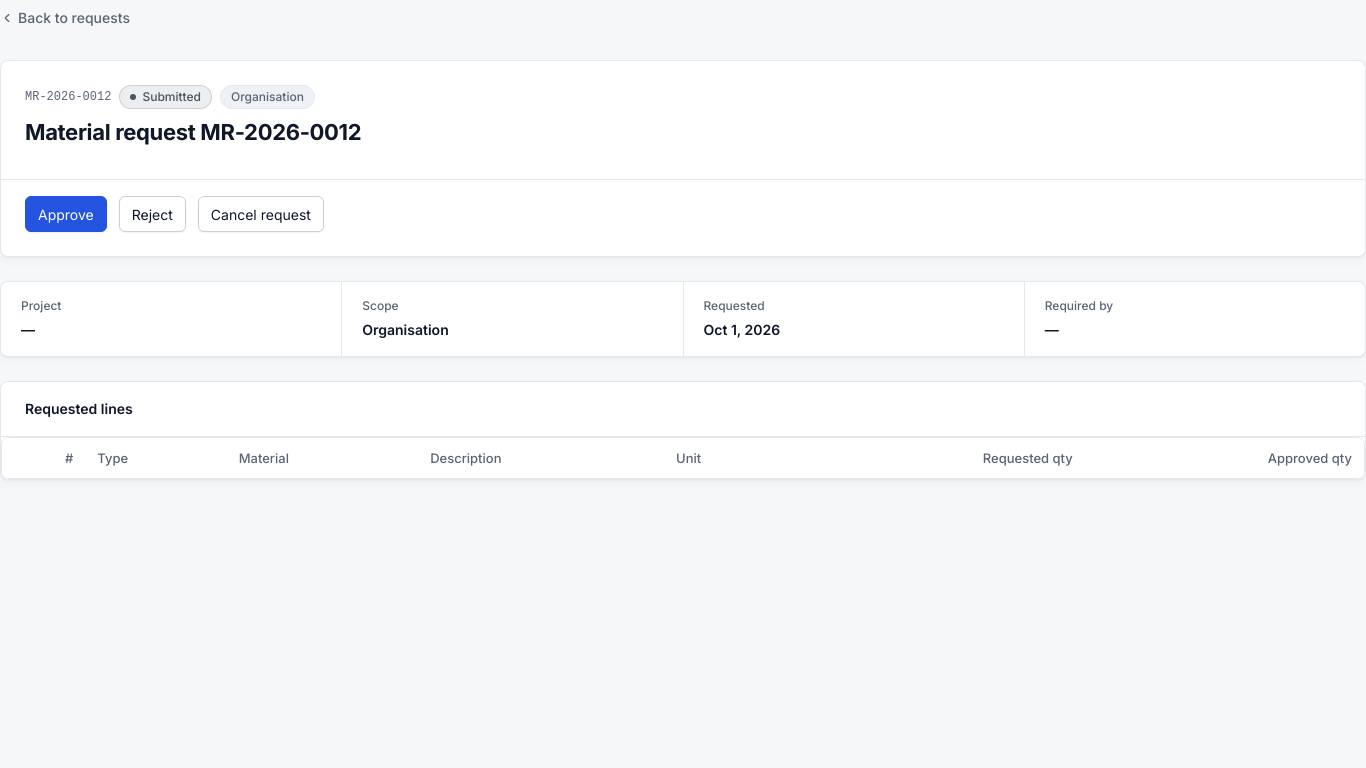
Test: MrDetail — approve / reject › says in words that a requester cannot approve their own request
This screenshot has width=1366, height=768.
Step 1. Click the button "Approve" → (66, 214), box [25,196,107,232]
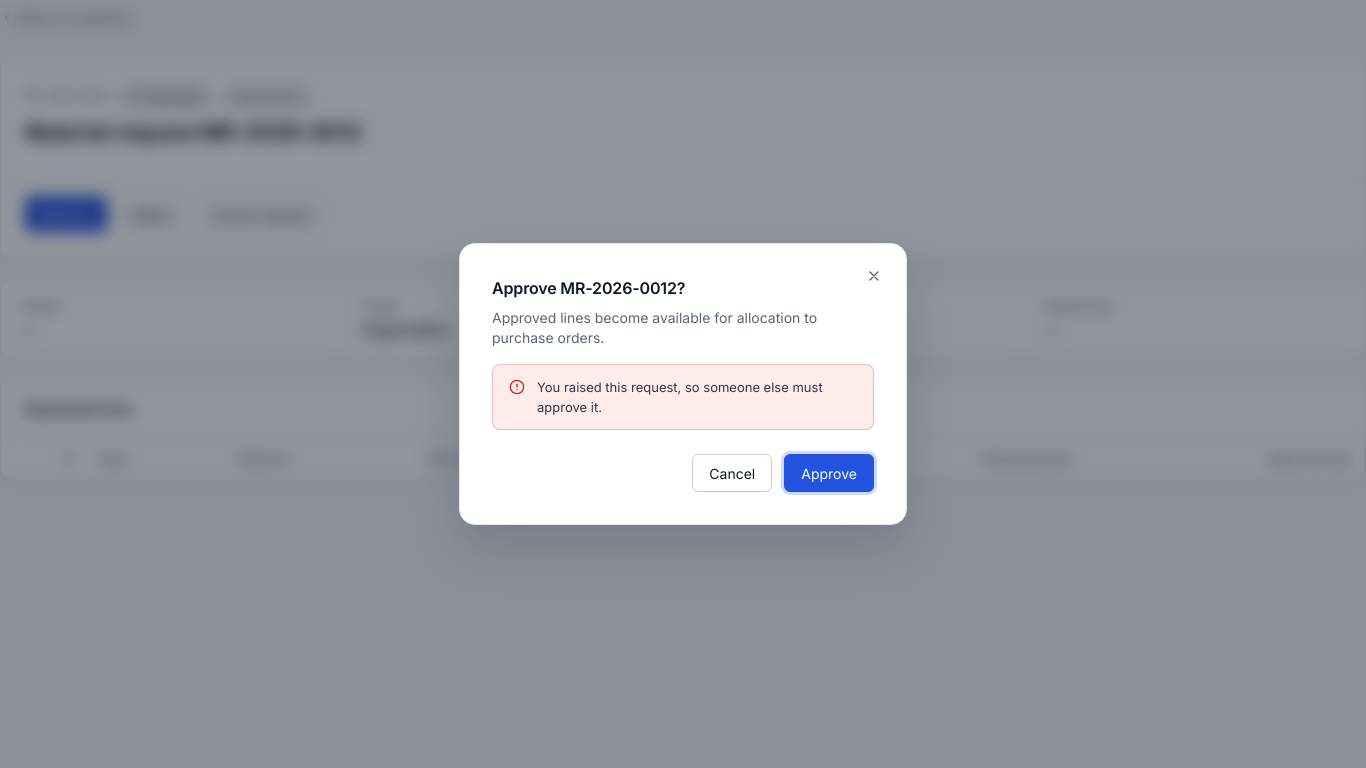
Check: the text "You raised this request, so someone else must approve it." is shown, box [537,377,857,417]
